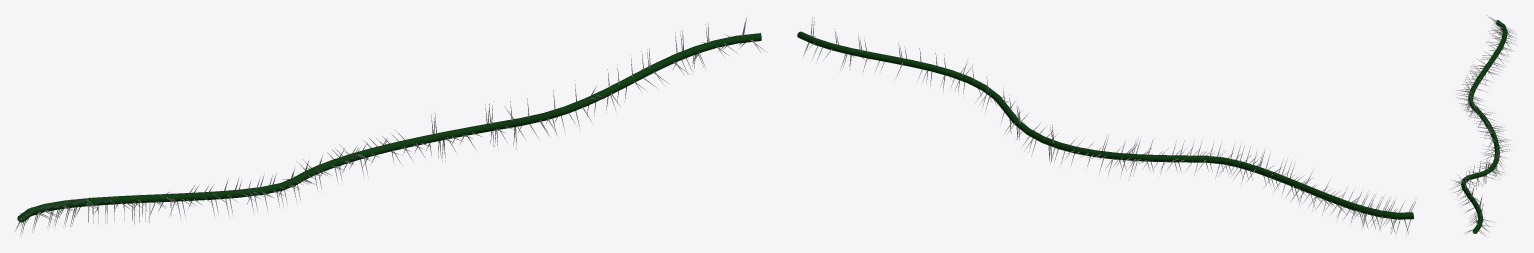
Rendered from SpikeyVine.fbx.
The picture shows the model from 3 angles, left to right: view 1: azimuth 30°, elevation 25°; view 2: azimuth 150°, elevation 25°; view 3: azimuth 270°, elevation 25°; orthographic projection. The views are drawn at different scales.
Visible parts, largest first — view 1: BezierCurve, SPIKES; view 2: BezierCurve, SPIKES; view 3: SPIKES, BezierCurve.
Boxes of the visible parts, x1,y1,x2,y2 form: BezierCurve: (17,33,761,222); SPIKES: (15,17,767,236); BezierCurve: (797,31,1413,219); SPIKES: (803,17,1415,235); SPIKES: (1450,15,1516,236); BezierCurve: (1461,20,1507,233).
Size of the model in its own units: 833 by 99.08 by 114.
